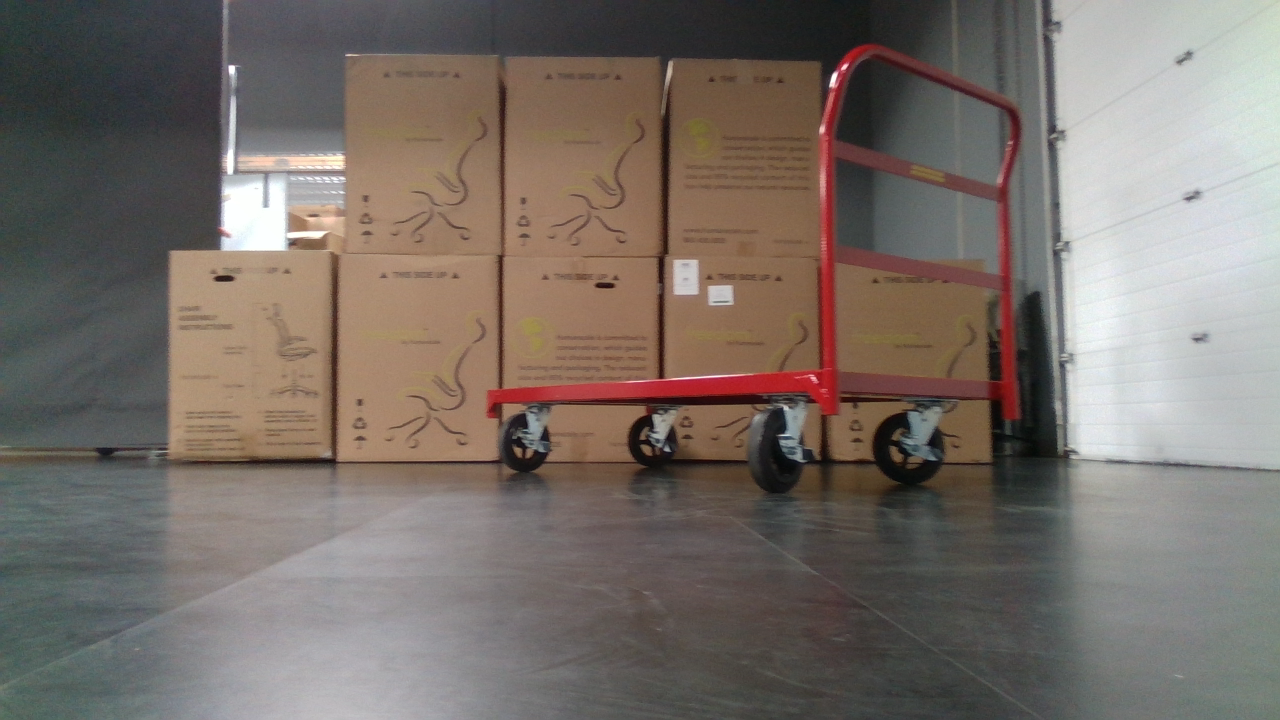Dolly: (485, 41, 1023, 495)
Wheel: (745, 402, 813, 493), (871, 405, 948, 483), (497, 408, 554, 472), (627, 411, 679, 468)
